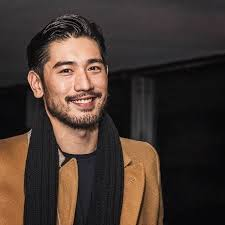asian_male: (22, 17, 119, 152)
